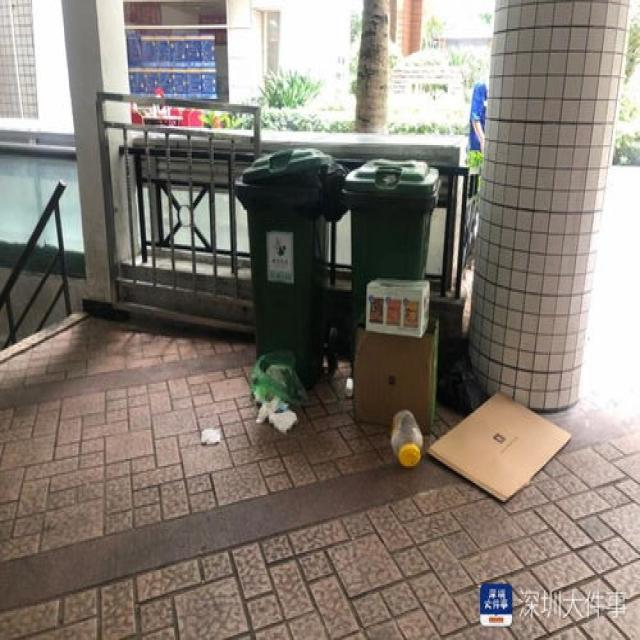garbage: (343, 275, 571, 502), (248, 350, 304, 430)
garbage_bin: (234, 147, 343, 384), (343, 157, 439, 273)
